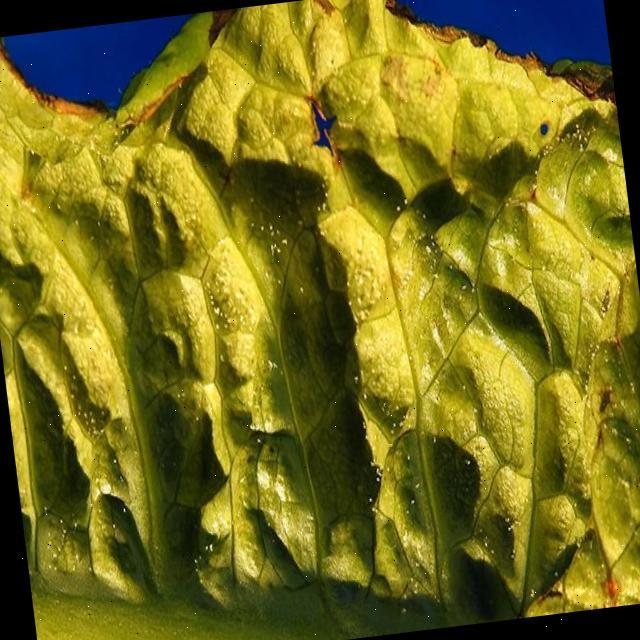Downy_Mildew: (237, 49, 487, 344)
